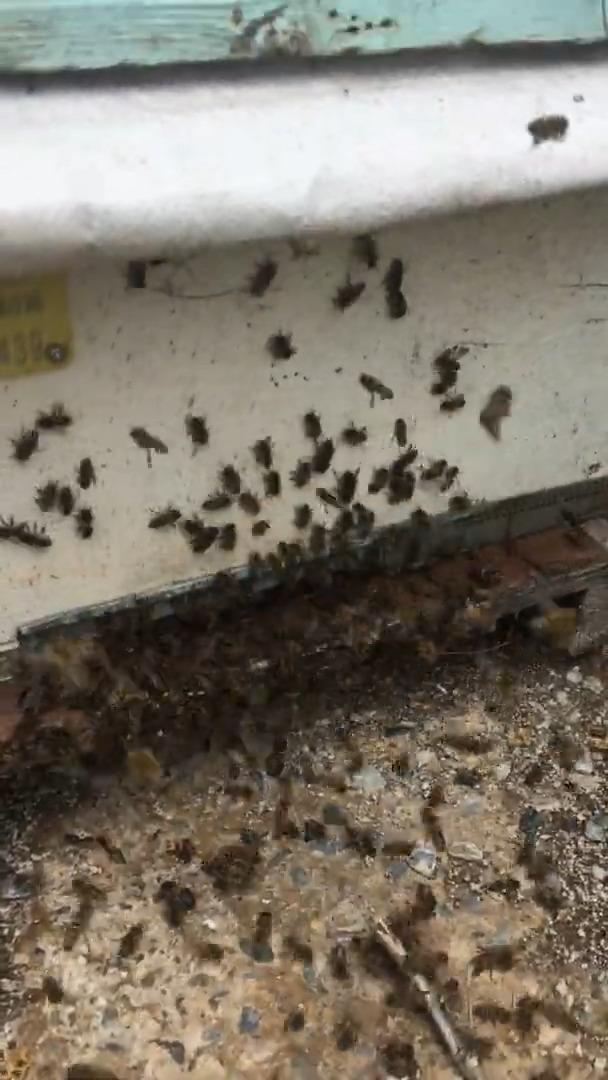worker-bee: (201, 833, 264, 895), (430, 344, 469, 399), (479, 385, 512, 440), (0, 517, 51, 548), (383, 257, 407, 319), (181, 518, 218, 553), (527, 114, 568, 145), (248, 257, 277, 297), (332, 276, 365, 310), (359, 373, 393, 405), (36, 403, 72, 430), (130, 427, 167, 452), (11, 428, 38, 461), (266, 331, 296, 360), (335, 470, 359, 506), (388, 472, 414, 504), (148, 506, 181, 529), (312, 439, 334, 473), (35, 481, 58, 512), (186, 414, 208, 445), (252, 436, 272, 468), (220, 465, 241, 495), (76, 457, 95, 489), (290, 459, 311, 487), (303, 410, 321, 441), (75, 507, 93, 538), (202, 493, 231, 511), (368, 467, 388, 493), (57, 485, 74, 515), (238, 492, 260, 515), (421, 459, 446, 479), (218, 523, 236, 550), (263, 470, 280, 495), (393, 418, 407, 446), (294, 504, 310, 527), (251, 520, 269, 535)
